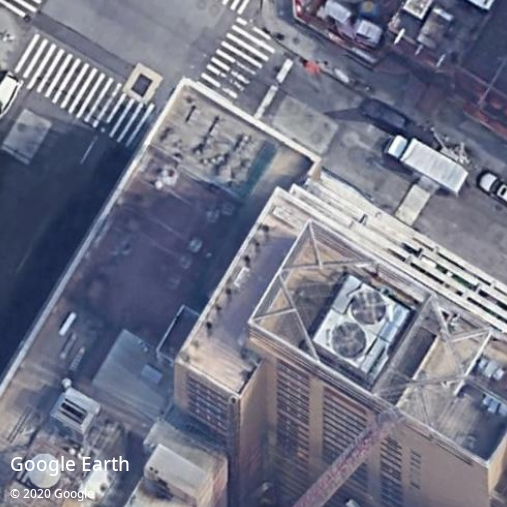Vent: (331, 322, 366, 358), (351, 290, 385, 325)
